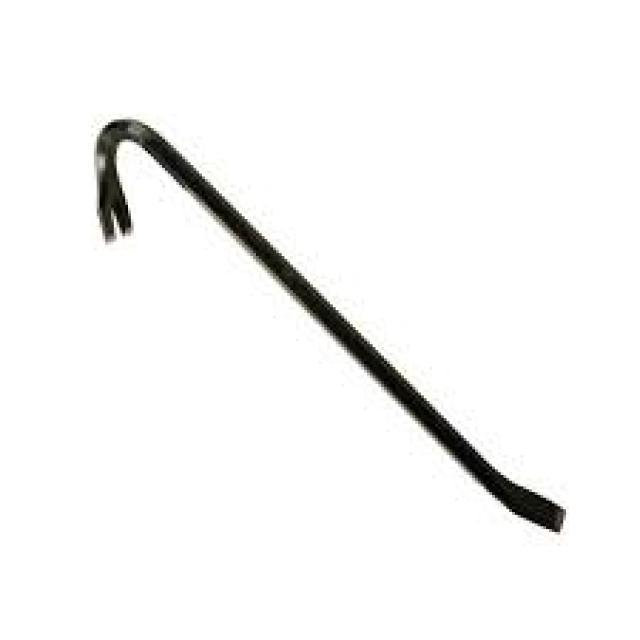Linggis: (86, 107, 573, 538)
